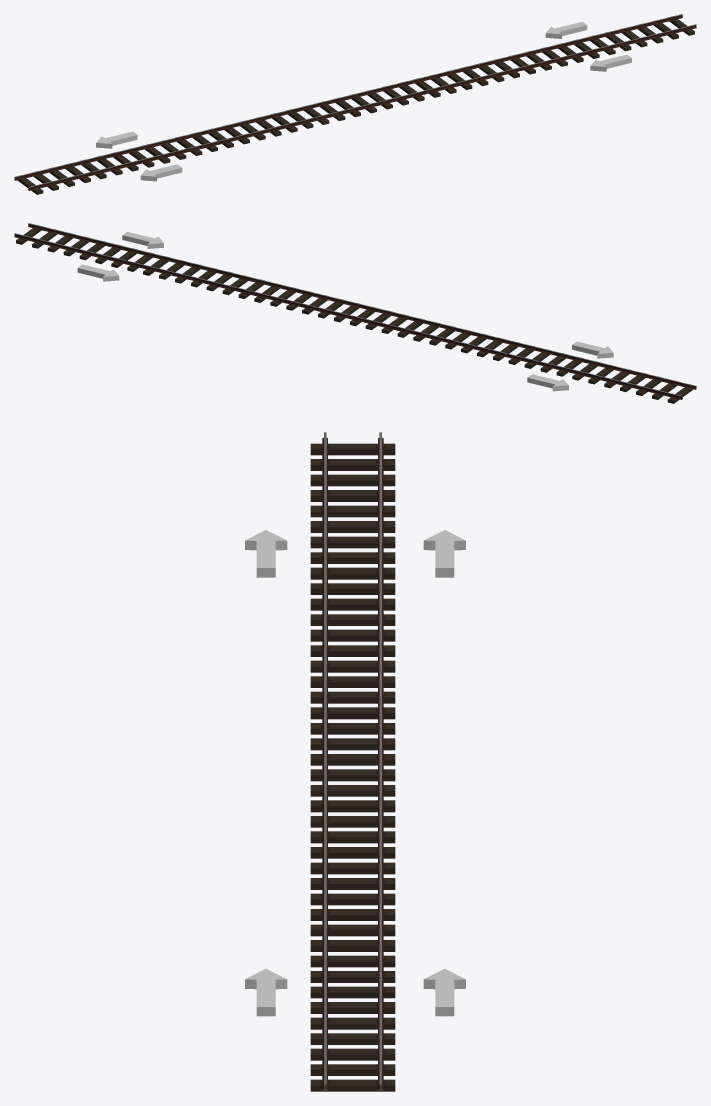
File: trackmodelguide.obj
3 renders of one model, top to bottom at view 1: azimuth 30°, elevation 25°; view 2: azimuth 150°, elevation 25°; view 3: azimuth 270°, elevation 25°, orthographic. The views are drawn at different scales.
Visible parts, largest first — view 1: Cylinder.001; view 2: Cylinder.001; view 3: Cylinder.001.
Part boxes in pixels (left/top/right/bottom): Cylinder.001: left=14, top=14, right=696, bottom=194; Cylinder.001: left=14, top=223, right=696, bottom=403; Cylinder.001: left=245, top=432, right=465, bottom=1091.
Bounding box in the file's own units: 42 × 0.3683 × 6.02.
